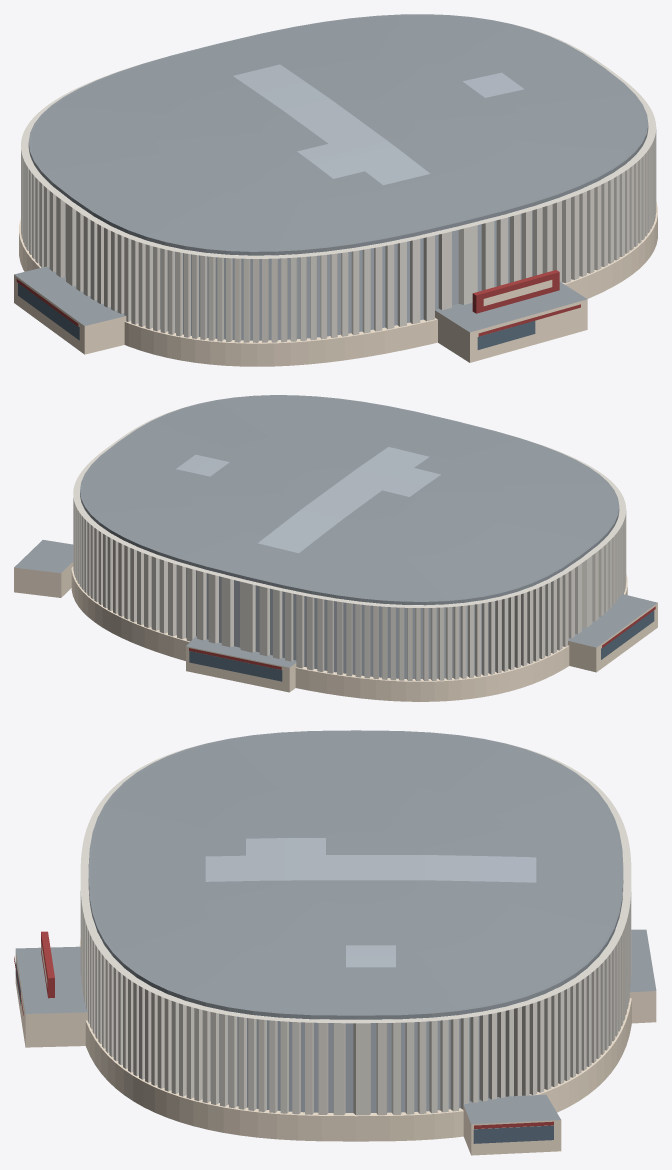
File: sd-pechanga-arena.glb
3 views of the same model, one above another, from view 1: azimuth 30°, elevation 25°; view 2: azimuth 150°, elevation 25°; view 3: azimuth 270°, elevation 25° (orthographic). The views are drawn at different scales.
Visible parts, largest first — view 1: Pechanga Arena; view 2: Pechanga Arena; view 3: Pechanga Arena.
Boxes of the visible parts, <box> form: Pechanga Arena: <box>14,14,657,366</box>; Pechanga Arena: <box>14,395,657,701</box>; Pechanga Arena: <box>14,730,656,1155</box>.
Size of the model in its own units: 154 by 28.02 by 129.
